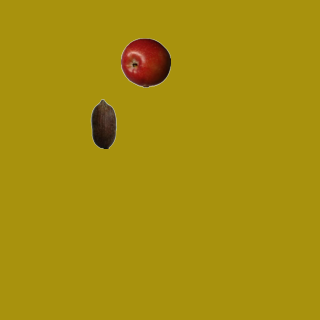Apple Braeburn: (120, 37, 170, 87)
Nut Pecan: (78, 98, 128, 148)
